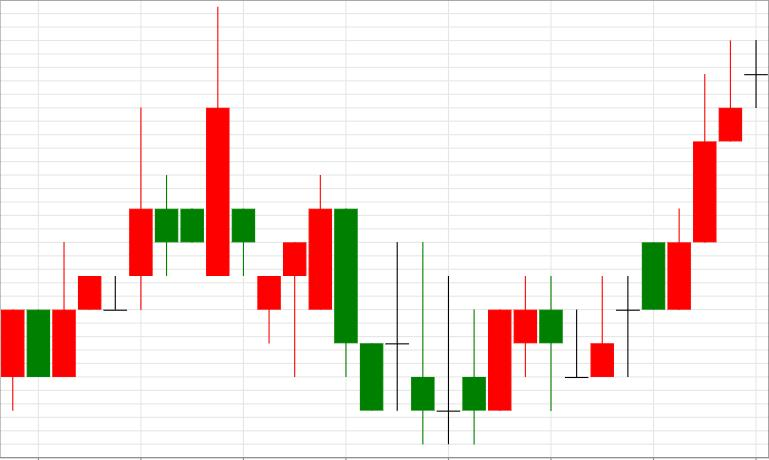inverse_hammer_rise: (334, 209, 434, 445)
shooting_star_fall: (591, 40, 742, 378)
